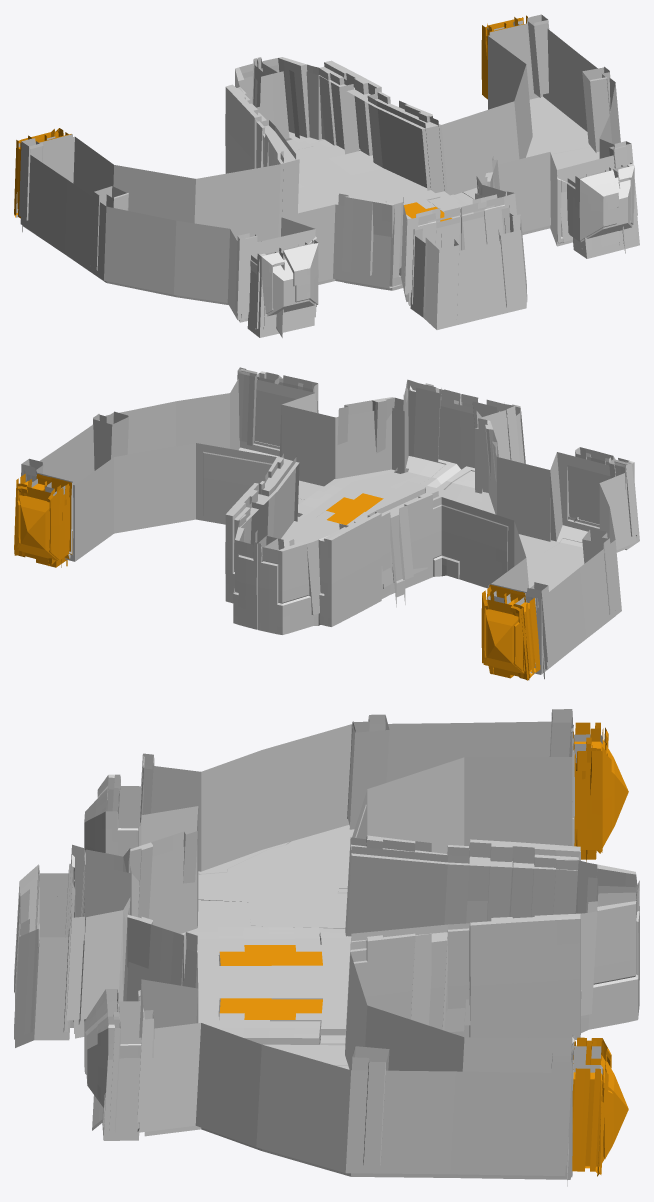
The model's file is interior ship model with wallls.fbx.
The picture shows the model from 3 angles, top to bottom: view 1: azimuth 30°, elevation 25°; view 2: azimuth 150°, elevation 25°; view 3: azimuth 270°, elevation 25°; orthographic projection. The views are drawn at different scales.
Parts seen in each view (by area): view 1: Cube; view 2: Cube; view 3: Cube.
Boxes of the visible parts, x1,y1,x2,y2 form: Cube: (14,14,639,337); Cube: (14,367,639,680); Cube: (14,709,639,1186).
Size of the model in its own units: 1316 by 262 by 969.
